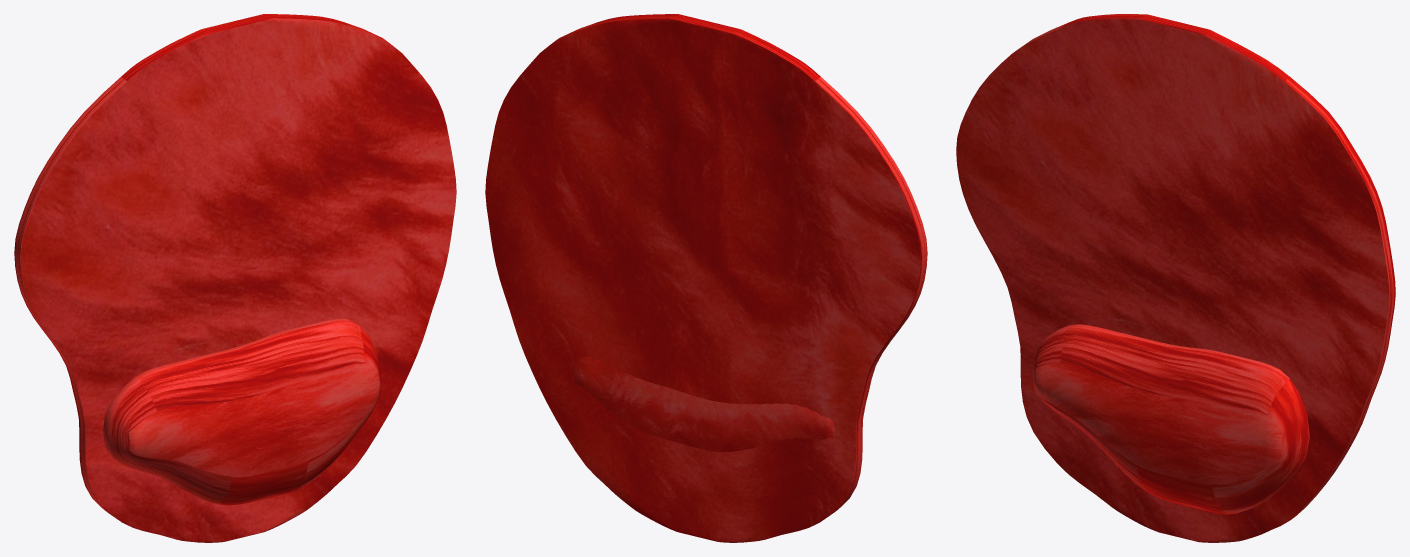
File: mousemat.obj
3 views of the same model, side by side, from view 1: azimuth 30°, elevation 25°; view 2: azimuth 150°, elevation 25°; view 3: azimuth 330°, elevation 25° (orthographic).
Bounding box in the file's own units: 59.41 × 66.68 × 5.77.
Materials: 1 (1 with a texture image).
